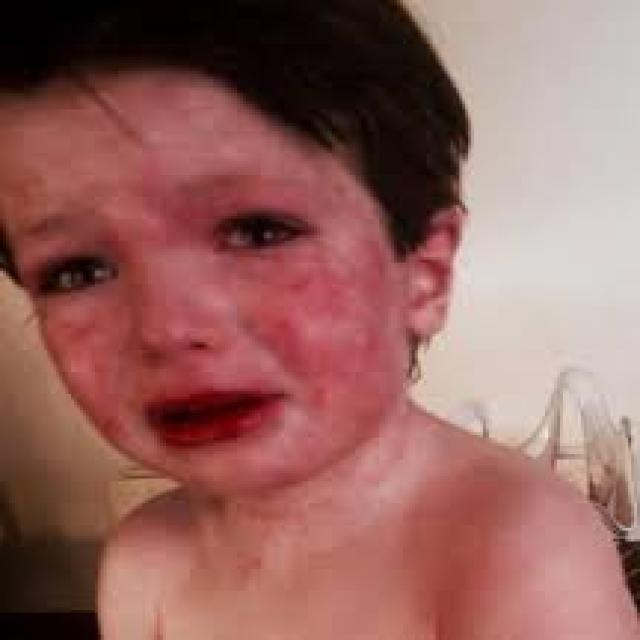burn: (0, 74, 453, 487), (126, 411, 595, 634)
